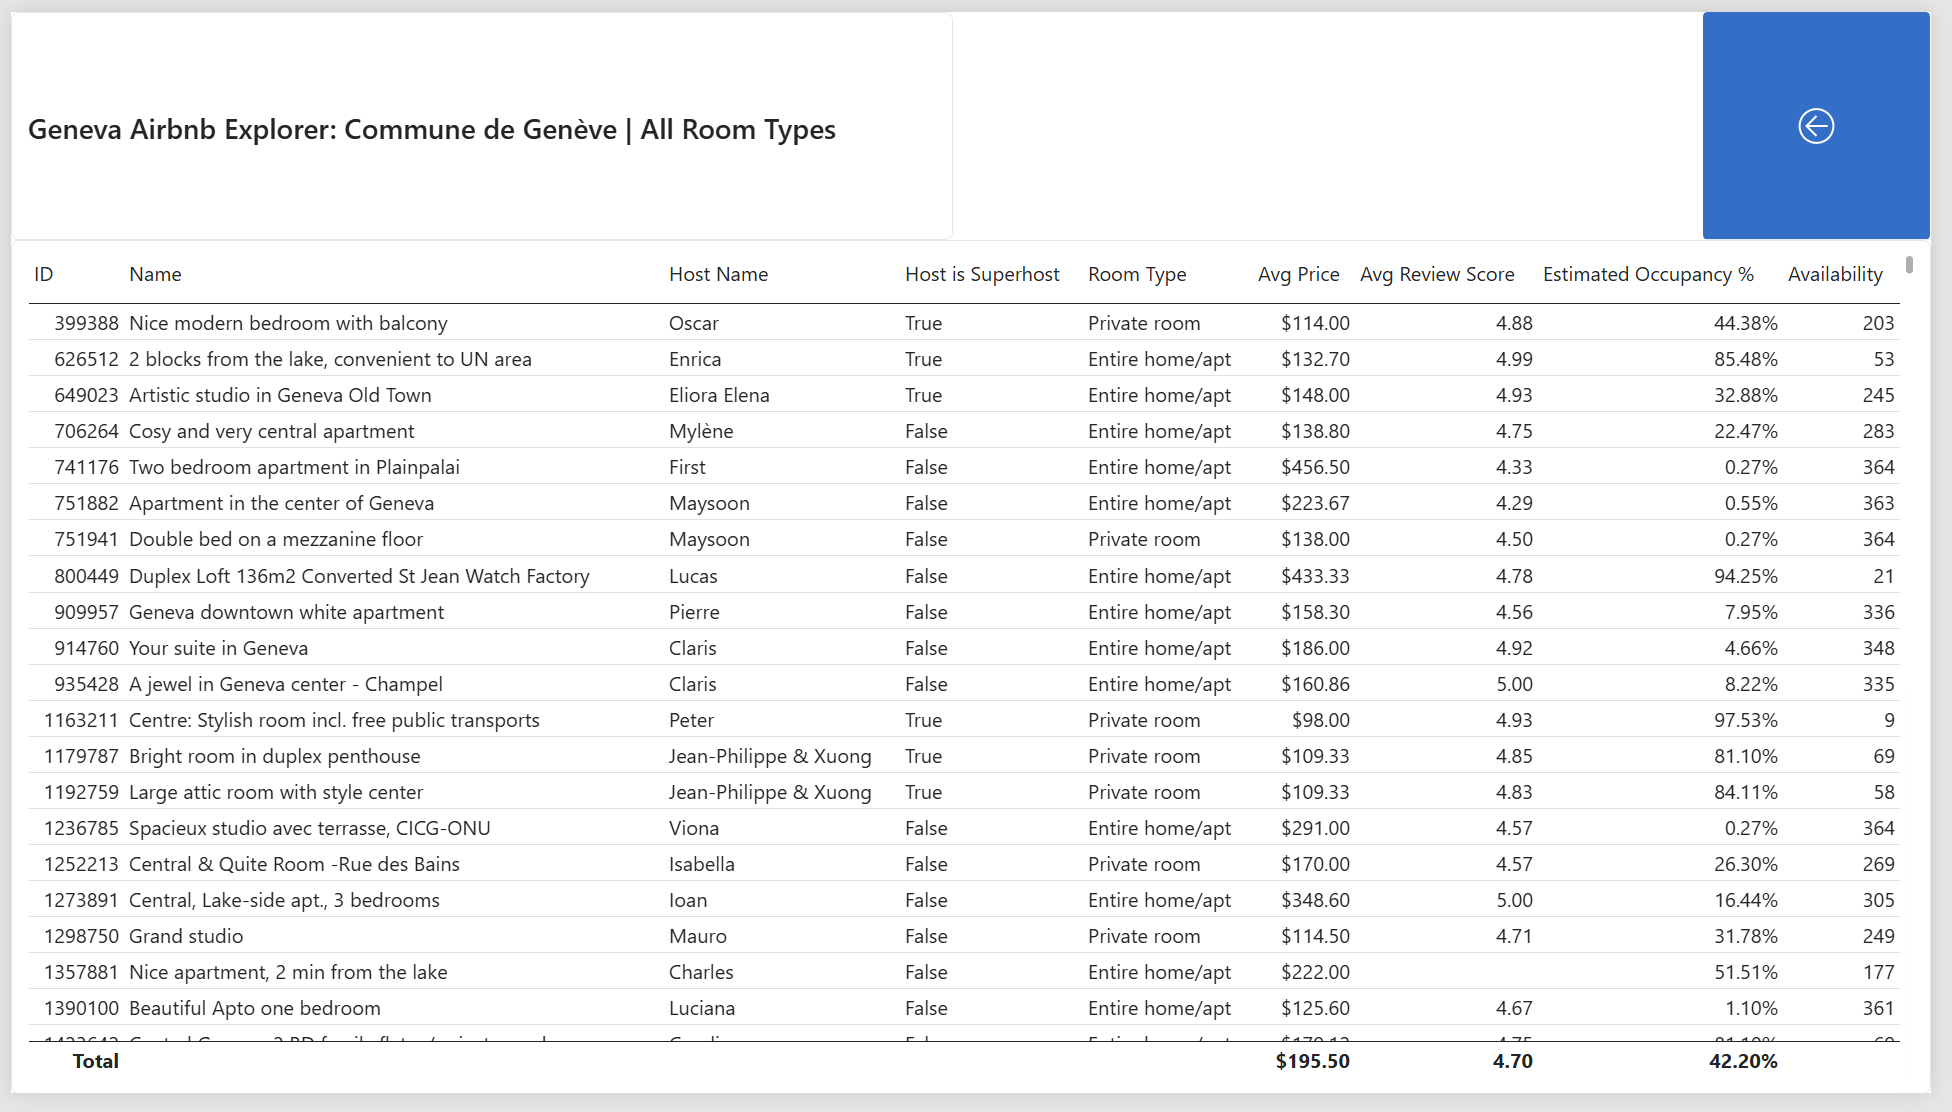

Layout of this report page (visuals, bound fields, positions):
{"tool":"powerbi","page":{"name":"Listing Details","canvas":[1920,1080],"ordinal":5},"visuals":[{"type":"cardVisual","fields":{"Data":["_Measures.Dynamic Report Title"]},"box":[0,0,942,228],"z":0},{"type":"actionButton","box":[1692.4,0,227,227.6],"z":1000},{"type":"tableEx","fields":{"Values":["FactListings.ID","FactListings.Name","DimHost.Host Name","DimHost.Host is Superhost","DimRoomType.Room Type","_Measures.Avg Price","_Measures.Avg Review Score","_Measures.Estimated Occupancy %","FactListings.Availability"]},"box":[0,227.6,1920,852.9],"z":2000}]}

Visuals, with their boxes in screenshot pixels (x1, y1, x2, y2), scaled from the page's 1920x1080 canvas onto the 1952x1112 screenshot:
cardVisual - _Measures.Dynamic Report Title: (0,0,958,235)
actionButton: (1721,0,1951,234)
tableEx - FactListings.ID x FactListings.Name: (0,234,1951,1111)
